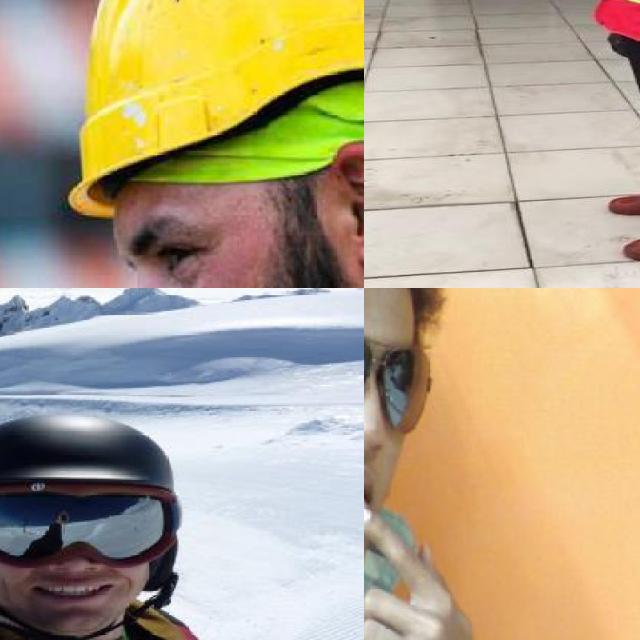No_Ear-Protection: (331, 138, 364, 270)
No_Glasses: (108, 196, 243, 288)
boots: (602, 126, 640, 219)
face_nomask: (0, 485, 159, 616), (364, 323, 401, 526)
glasses: (0, 482, 191, 571), (364, 312, 439, 435)
hand_noglove: (364, 502, 462, 640)
head_nohelmet: (0, 408, 181, 517)
person: (0, 408, 226, 640), (364, 288, 462, 640), (565, 0, 640, 276)
